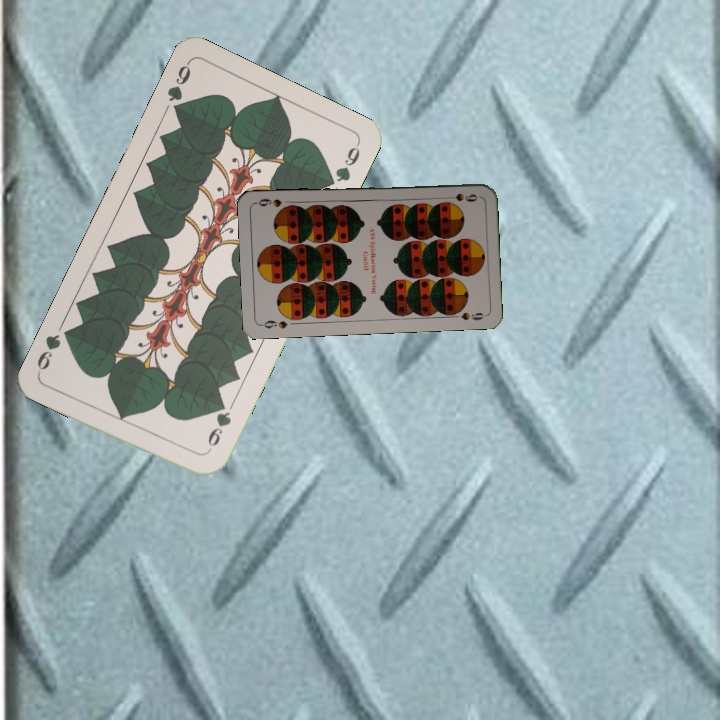G9: (201, 398, 234, 456), (163, 58, 193, 118)
S9: (440, 189, 480, 204), (257, 316, 290, 331)
